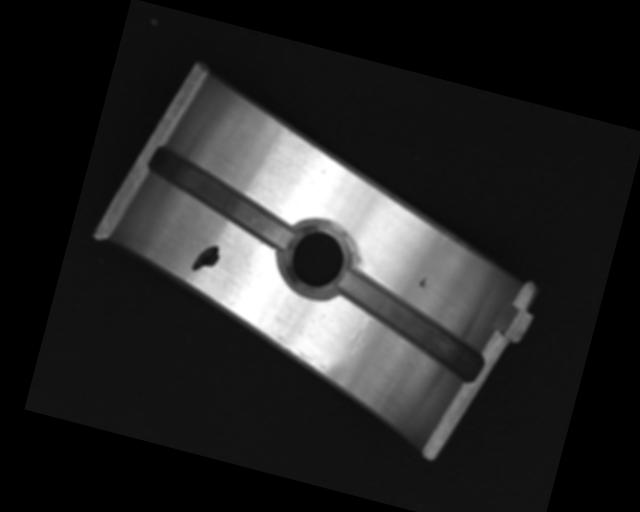blot: (190, 240, 222, 276)
bruise: (417, 275, 429, 288)
gap: (325, 266, 495, 384), (138, 143, 304, 247)
hole: (279, 213, 359, 302)
nick: (342, 313, 372, 360)
